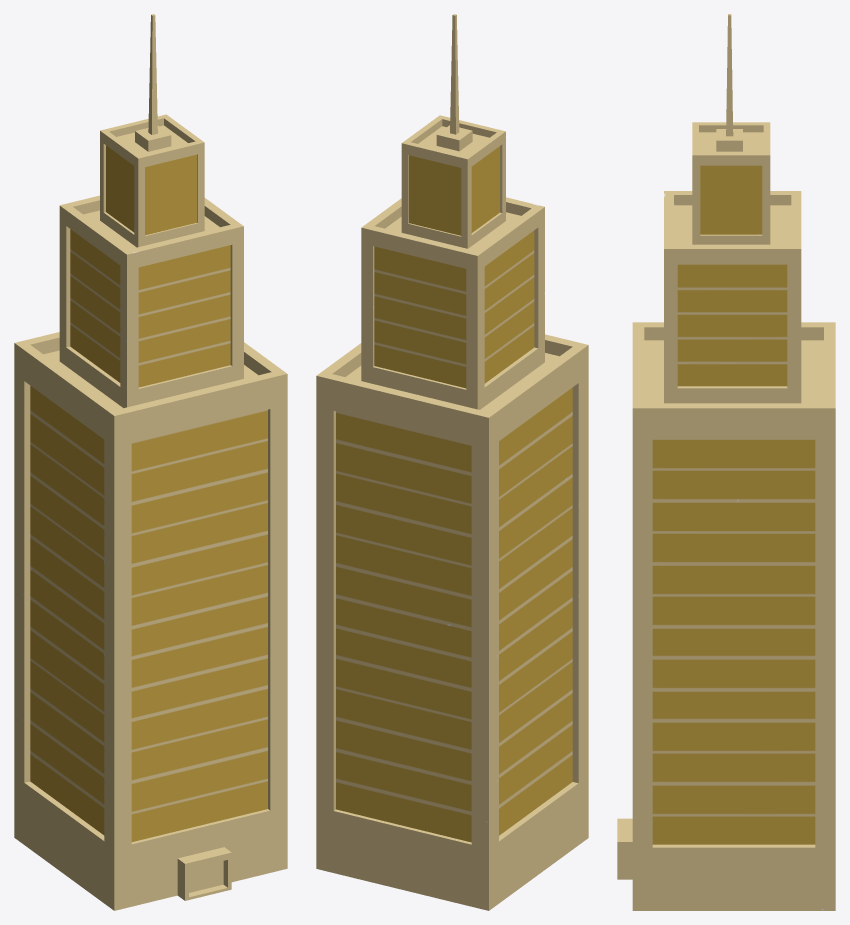
Rendered from Bina3.fbx.
3 views of the same model, side by side, from view 1: azimuth 30°, elevation 25°; view 2: azimuth 150°, elevation 25°; view 3: azimuth 270°, elevation 25° (orthographic).
Parts seen in each view (by area): view 1: SC_Bld_03_Bright; view 2: SC_Bld_03_Bright; view 3: SC_Bld_03_Bright.
Boxes of the visible parts, left/top/right/bottom form: SC_Bld_03_Bright: left=14, top=14, right=287, bottom=910; SC_Bld_03_Bright: left=316, top=14, right=588, bottom=910; SC_Bld_03_Bright: left=617, top=14, right=835, bottom=910.
Size of the model in its own units: 16.85 by 78.09 by 18.1.
